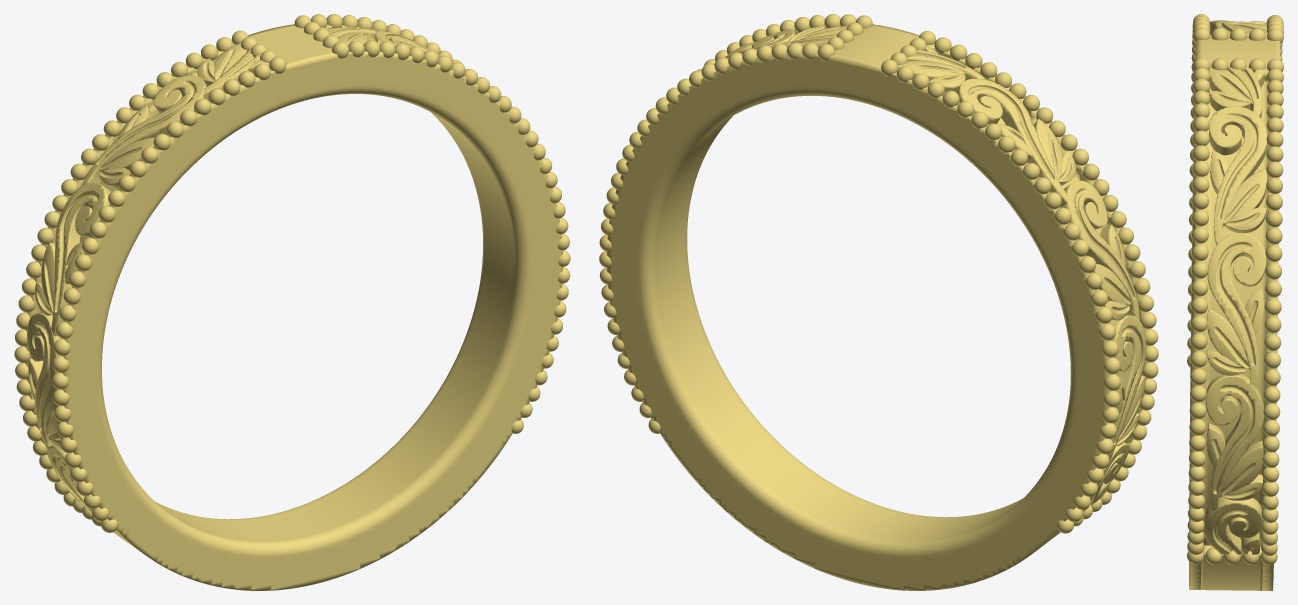
Rendered from JU_M_0031_SHANK_1.glb.
3 views of the same model, side by side, from view 1: azimuth 30°, elevation 25°; view 2: azimuth 150°, elevation 25°; view 3: azimuth 270°, elevation 25° (orthographic). The views are drawn at different scales.
Visible parts, largest first — view 1: JU_M_0031_SHANK; view 2: JU_M_0031_SHANK; view 3: JU_M_0031_SHANK.
Boxes of the visible parts, bbox=[...] form: JU_M_0031_SHANK: bbox=[14, 14, 570, 590]; JU_M_0031_SHANK: bbox=[599, 14, 1158, 590]; JU_M_0031_SHANK: bbox=[1187, 14, 1283, 590].
Size of the model in its own units: 21.04 by 20.64 by 3.48.
